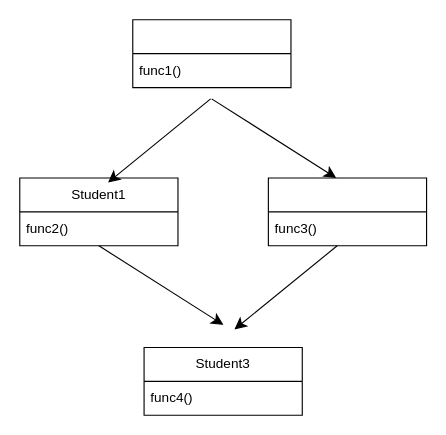
This 446x435 diagram has some shape labels left out. The box of each missing label's shape, as (x1, y1, x2, y2) in pixels:
School: (132, 19, 291, 88)
Student2: (267, 177, 427, 246)
